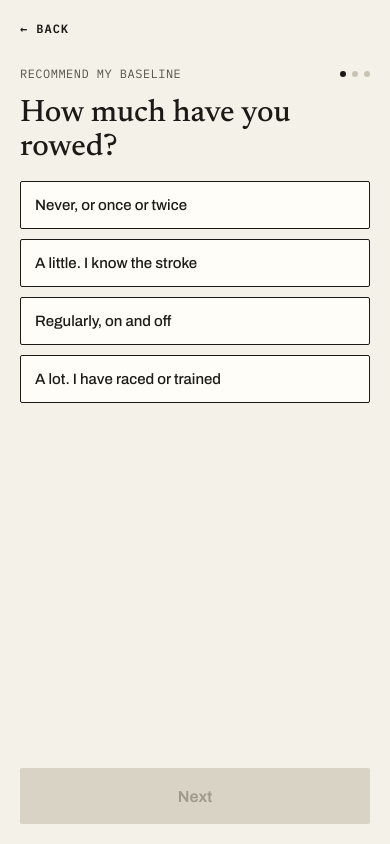
Scenario: Recommend (door 1) › auto-advance on pointer selection › tapping an experience answer advances to the cardio question by itself
The image size is (390, 844).
Click the radio button labelled "A little. I know the stroke" at (195, 263), box [20,239,370,287]
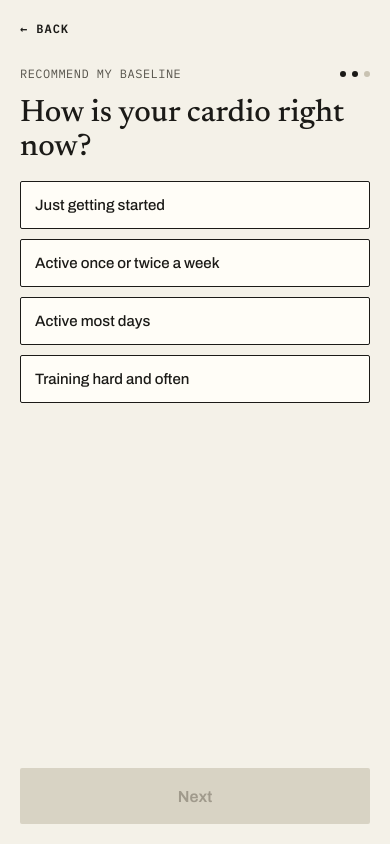
Check: the heading "How is your cardio right now?" is shown, box [20,97,370,165]
